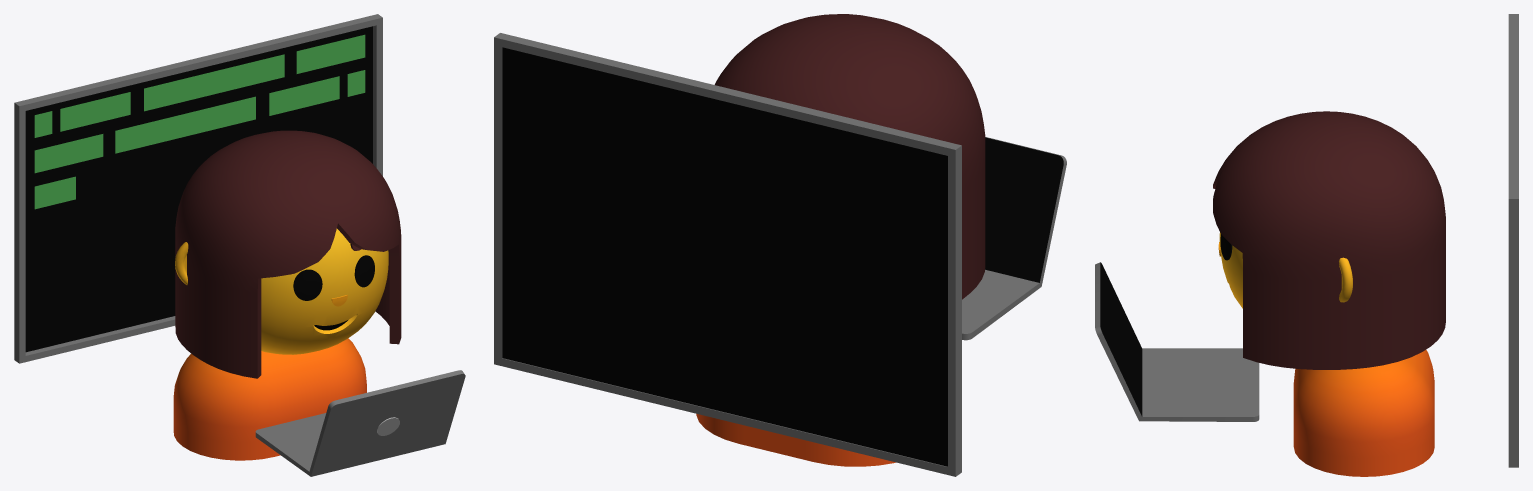
File: woman_technologist.fbx
The picture shows the model from 3 angles, left to right: view 1: azimuth 30°, elevation 25°; view 2: azimuth 150°, elevation 25°; view 3: azimuth 270°, elevation 25°; orthographic projection. The views are drawn at different scales.
Parts seen in each view (by area): view 1: Plane.063, Roundcube.119, Sphere.078, Plane.064, Roundcube.118, Circle.694; view 2: Plane.063, Roundcube.119, Plane.064, Sphere.078; view 3: Roundcube.119, Sphere.078, Plane.064, Plane.063, Roundcube.118, Cylinder.102.
Part boxes in pixels (x1,y1,x2,y2): Plane.063: (14, 14, 382, 363); Roundcube.119: (175, 130, 401, 378); Sphere.078: (173, 338, 366, 460); Plane.064: (255, 370, 465, 476); Roundcube.118: (261, 228, 388, 354); Circle.694: (293, 255, 374, 300); Plane.063: (494, 33, 961, 476); Roundcube.119: (714, 14, 985, 299); Plane.064: (962, 137, 1066, 340); Sphere.078: (696, 413, 895, 466); Roundcube.119: (1213, 111, 1445, 369); Sphere.078: (1293, 350, 1434, 476); Plane.064: (1095, 262, 1259, 421); Plane.063: (1508, 14, 1518, 467); Roundcube.118: (1219, 232, 1242, 308); Cylinder.102: (1339, 257, 1352, 302).
Size of the model in its own units: 311 by 255 by 301.
Materials: 2 (2 with a texture image).
